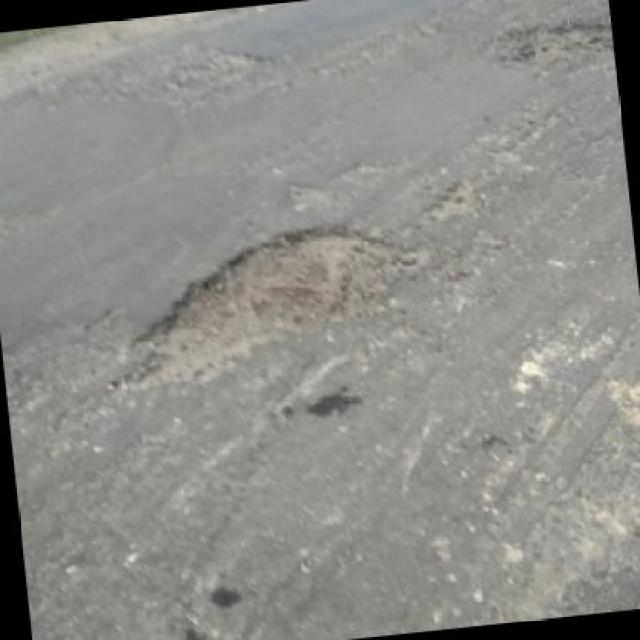pothole1: (101, 210, 425, 396), (485, 12, 613, 73), (158, 43, 270, 89)
